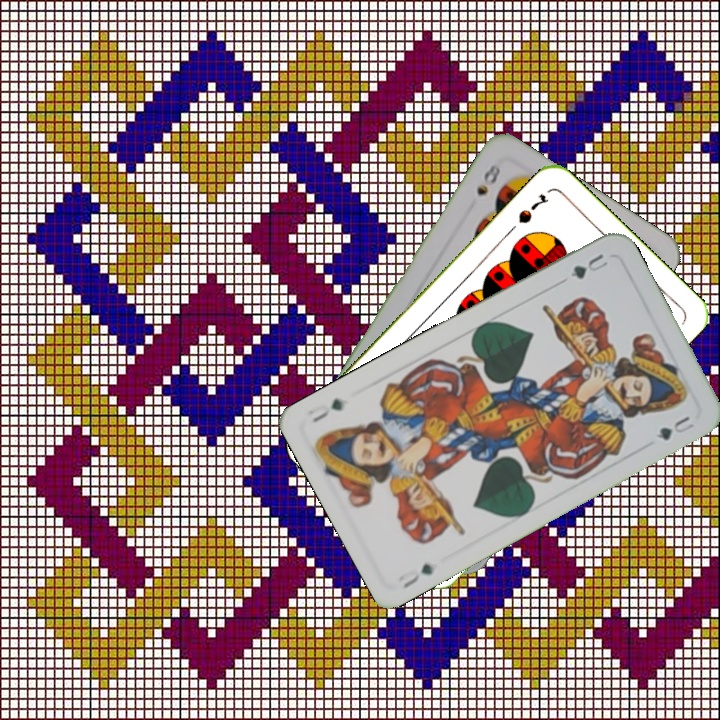GU: (566, 249, 611, 282), (399, 559, 437, 591)
S7: (514, 190, 552, 227)
S8: (472, 159, 504, 199)
